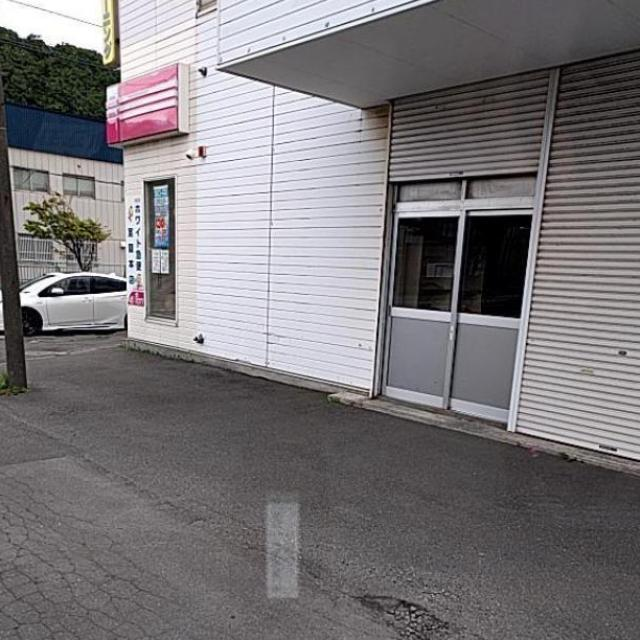Lubang: (361, 592, 437, 635)
Retak Buaya: (0, 474, 233, 640)
